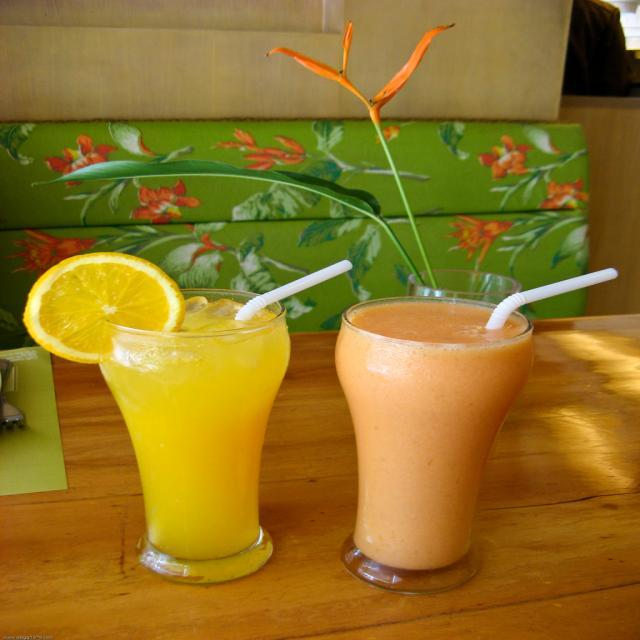Lemon: (19, 253, 188, 365)
